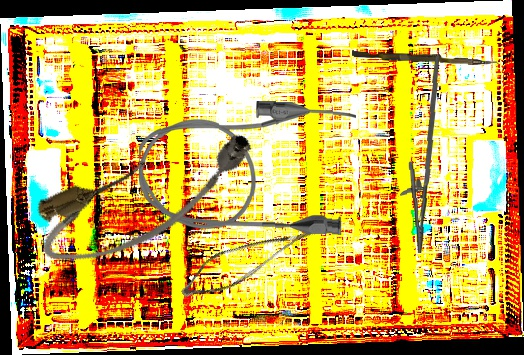Cannula: (25, 118, 271, 279), (137, 99, 357, 235)
Micro Scissor: (175, 196, 319, 320)
Needle Holder: (394, 56, 448, 254)
Pusher: (351, 50, 500, 66)
